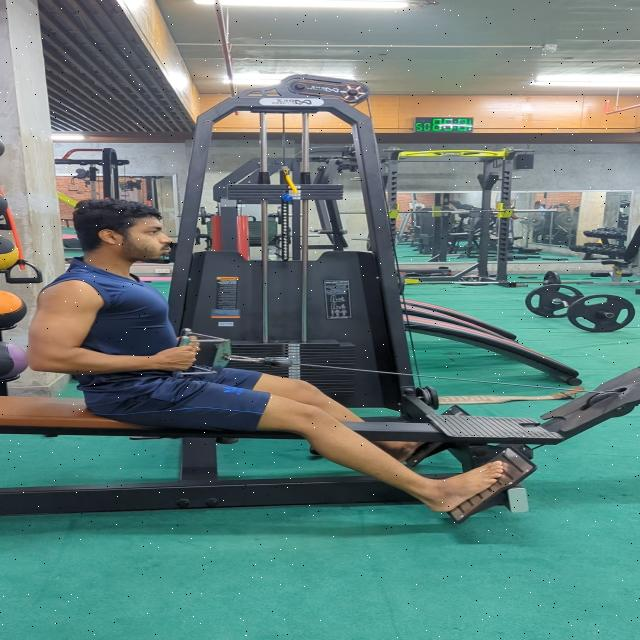Normal_RowingMachineExercise: (24, 199, 508, 514)
